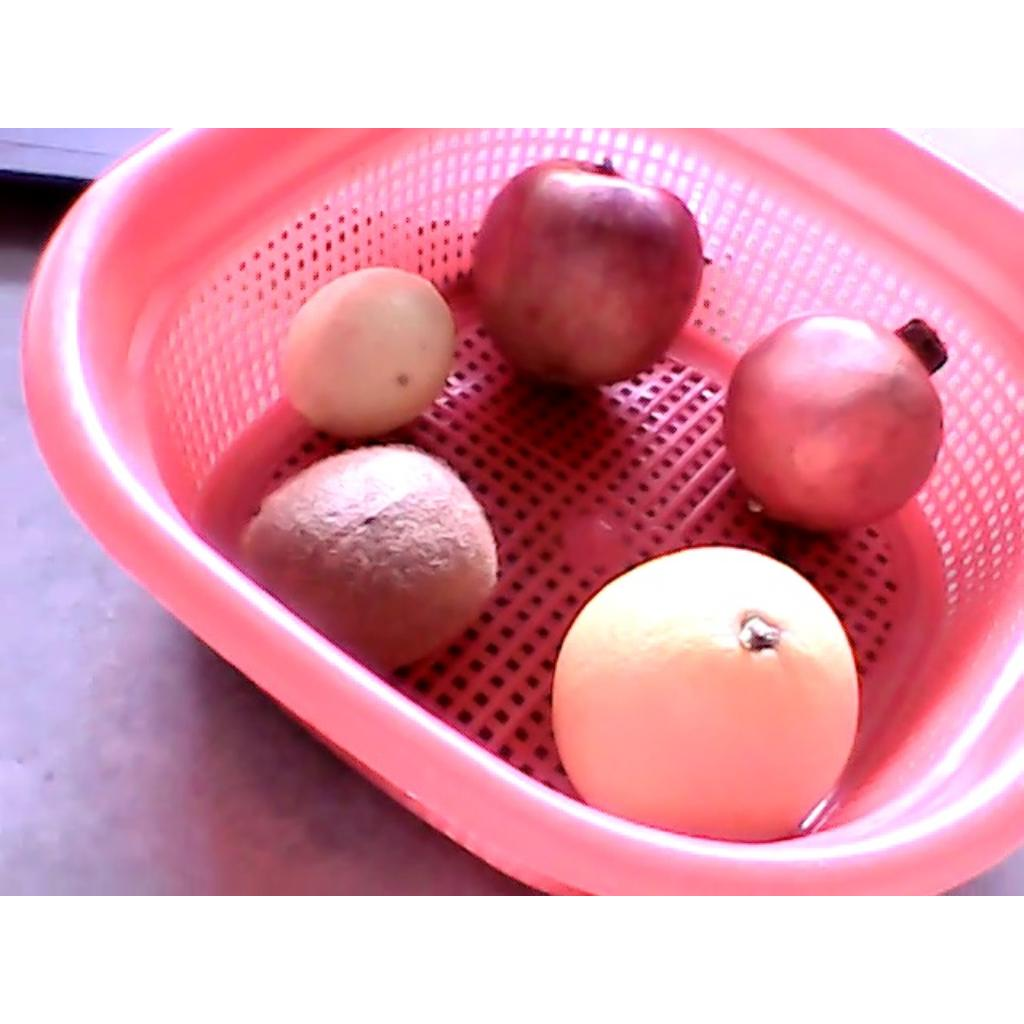apple: (470, 157, 707, 387), (724, 312, 950, 533)
kiwi: (235, 444, 498, 675)
lemon: (280, 268, 458, 439)
orange: (550, 544, 859, 843)
